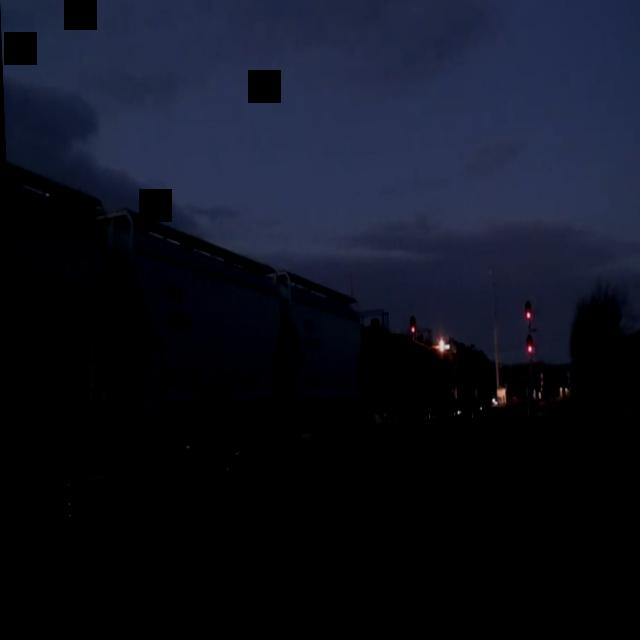hopper: (94, 174, 292, 485), (4, 121, 128, 521), (273, 254, 367, 470)
